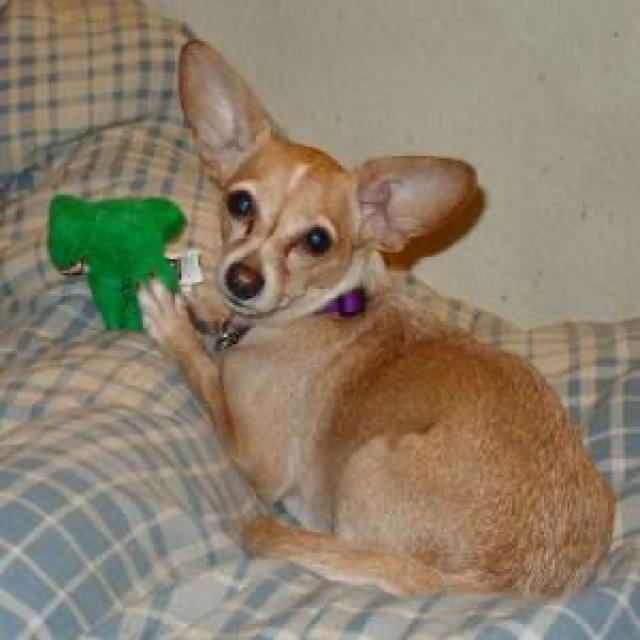dog: (177, 37, 474, 314)
